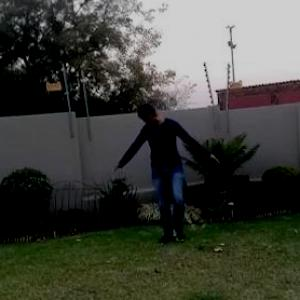land: (101, 94, 215, 258)
